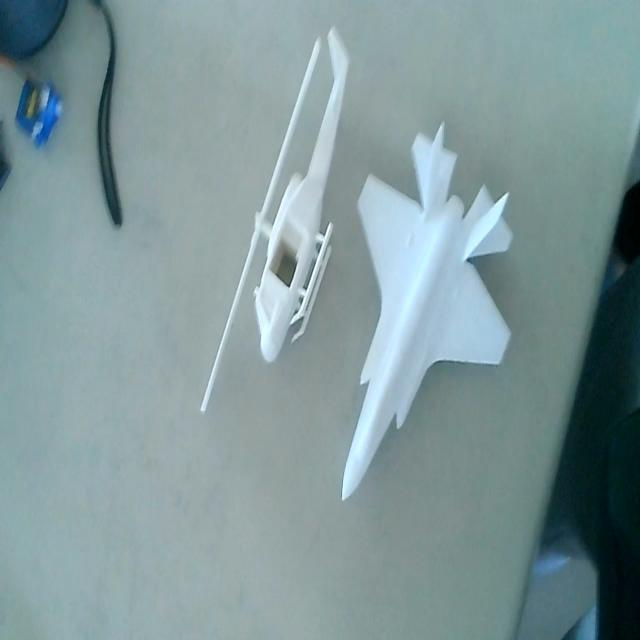Helicopter: (201, 22, 350, 409)
Jet: (343, 120, 514, 502)
